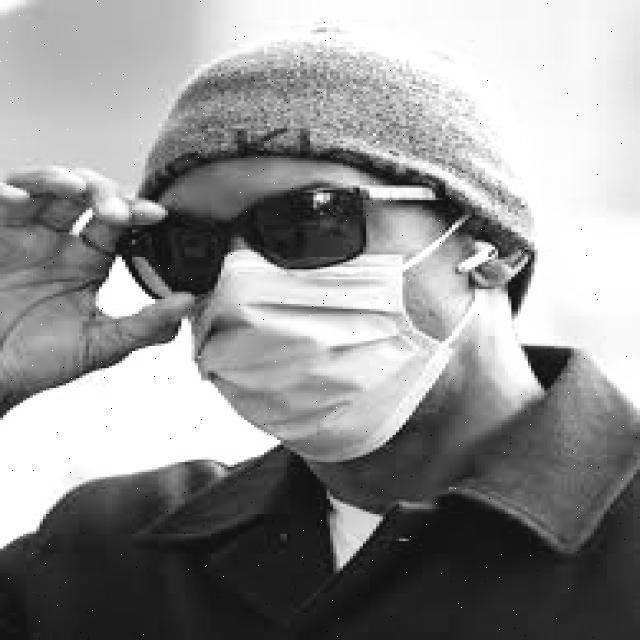fake: (118, 230, 506, 460), (111, 173, 441, 305)
